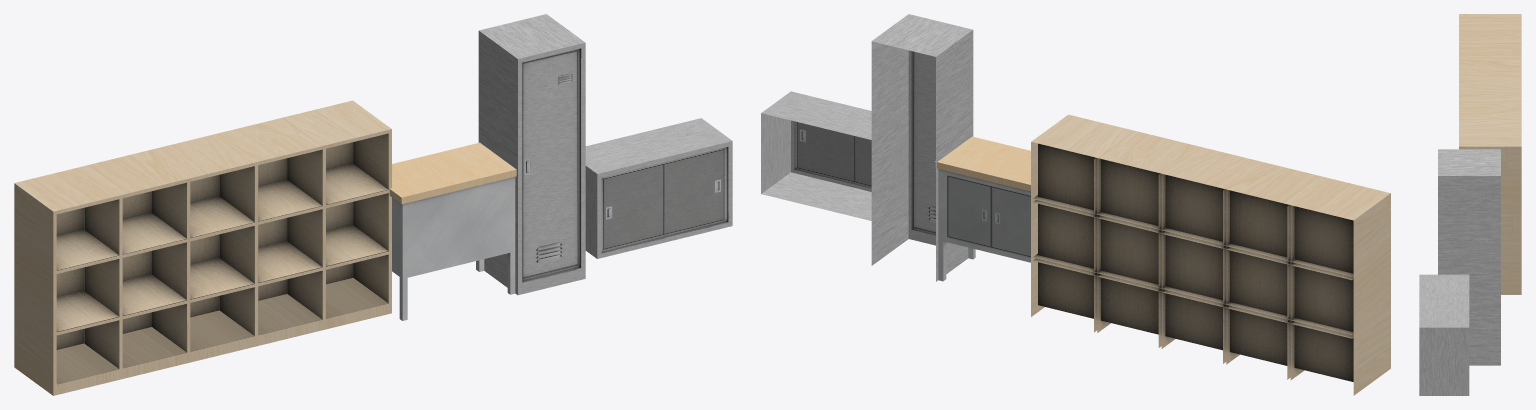
The model's file is prop_sch_furniture_0.fbx.
3 views of the same model, side by side, from view 1: azimuth 30°, elevation 25°; view 2: azimuth 150°, elevation 25°; view 3: azimuth 270°, elevation 25° (orthographic). The views are drawn at different scales.
Visible parts, largest first — view 1: prop_sch_boxesCabinet, prop_sch_locker, prop_sch_cabinet, prop_sch_frontTable; view 2: prop_sch_boxesCabinet, prop_sch_locker, prop_sch_cabinet, prop_sch_frontTable; view 3: prop_sch_boxesCabinet, prop_sch_locker, prop_sch_cabinet.
Part boxes in pixels (<box>): prop_sch_boxesCabinet: <box>14,100,391,395</box>; prop_sch_locker: <box>478,14,585,295</box>; prop_sch_cabinet: <box>585,118,732,258</box>; prop_sch_frontTable: <box>389,142,516,320</box>; prop_sch_boxesCabinet: <box>1031,114,1390,395</box>; prop_sch_locker: <box>871,14,973,281</box>; prop_sch_cabinet: <box>761,91,908,220</box>; prop_sch_frontTable: <box>935,136,1030,281</box>; prop_sch_boxesCabinet: <box>1459,14,1521,294</box>; prop_sch_locker: <box>1438,149,1500,365</box>; prop_sch_cabinet: <box>1419,274,1469,395</box>.
Bounding box in the file's own units: 580 × 200 × 98.
